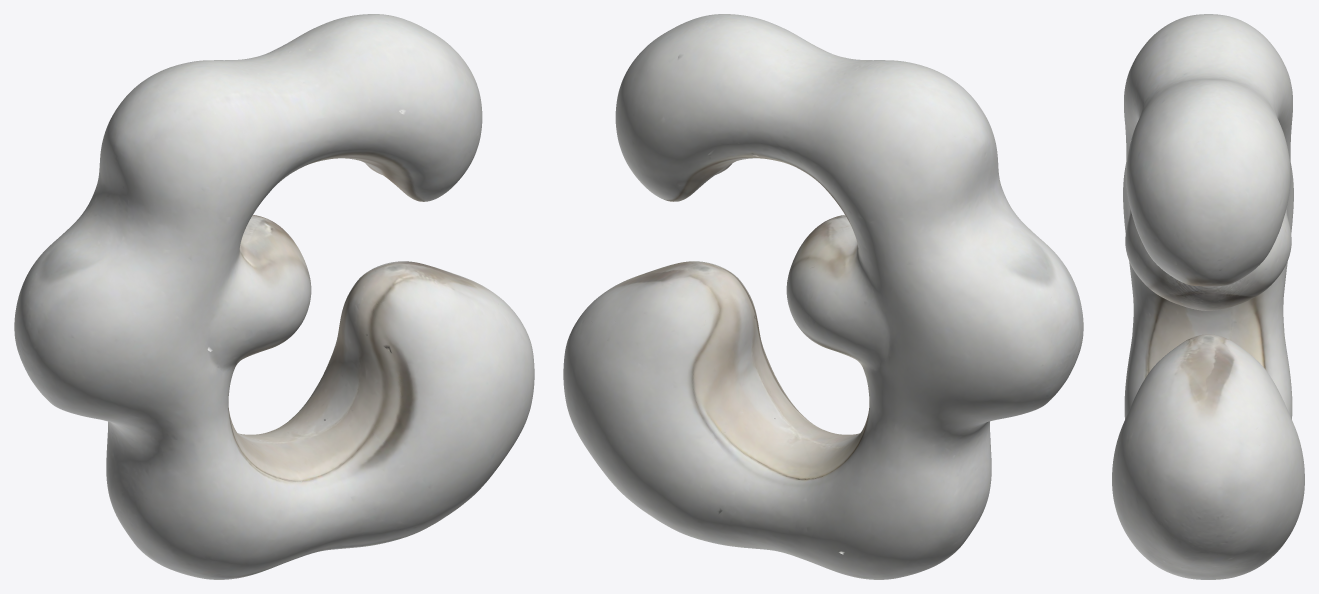
The model's file is wobbly_E.glb.
3 views of the same model, side by side, from view 1: azimuth 30°, elevation 25°; view 2: azimuth 150°, elevation 25°; view 3: azimuth 270°, elevation 25° (orthographic). The views are drawn at different scales.
Bounding box in the file's own units: 2 × 1.97 × 0.7233.
1 material, 1 textured.
